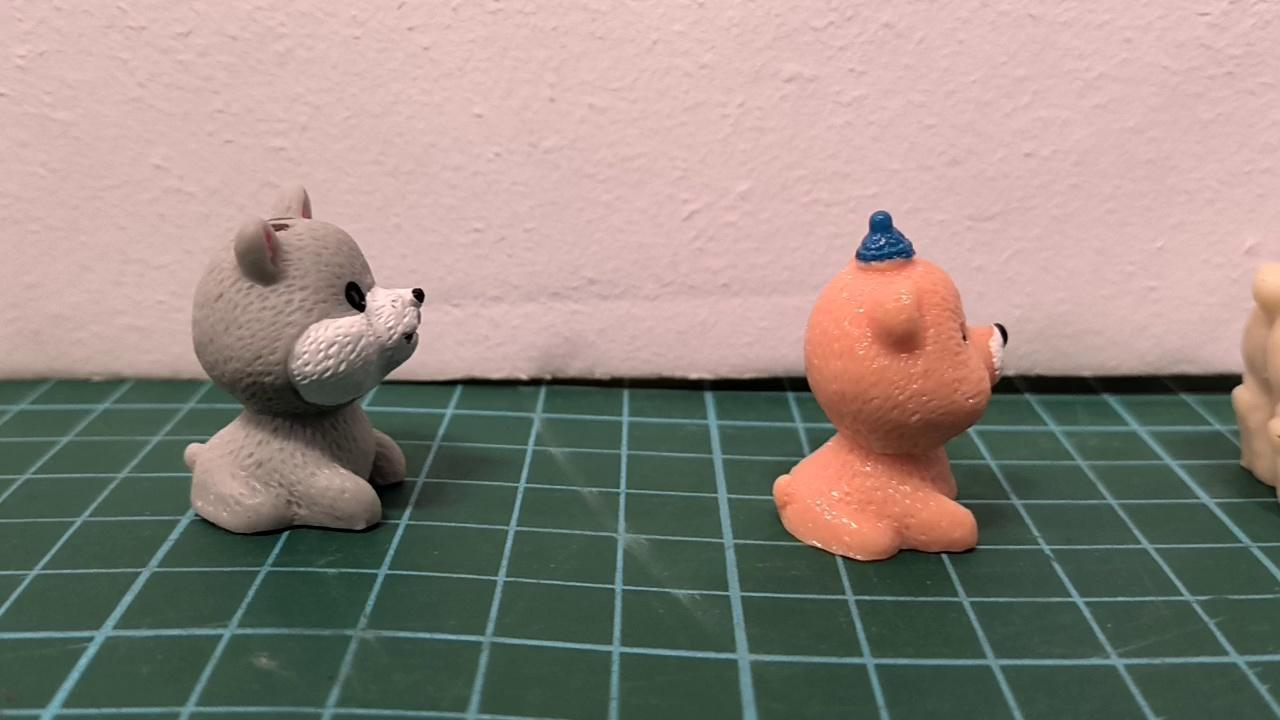pet: (184, 183, 423, 534), (773, 209, 1008, 563)
